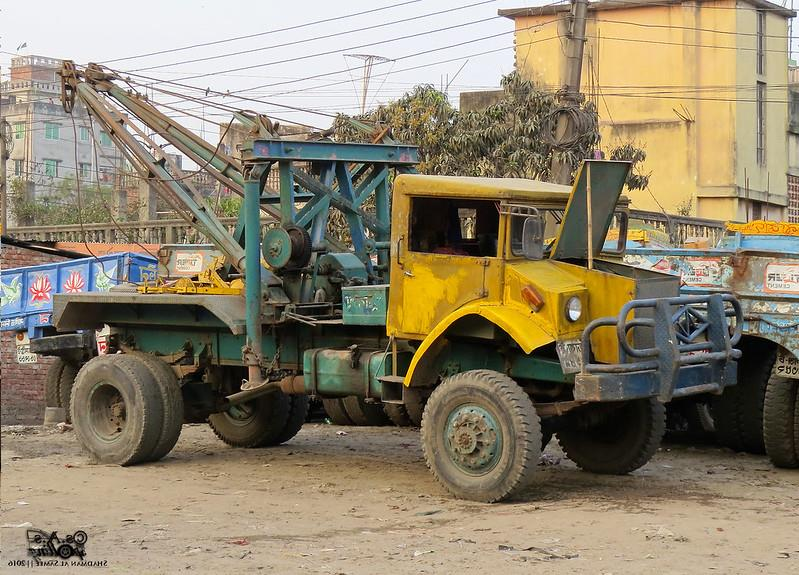truck: (49, 130, 714, 503), (3, 245, 156, 366)
